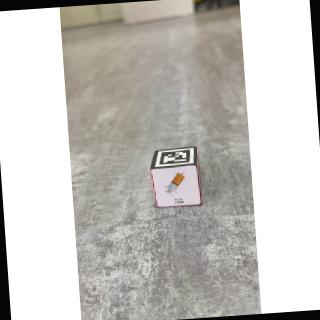Syringe: (152, 165, 202, 210)
